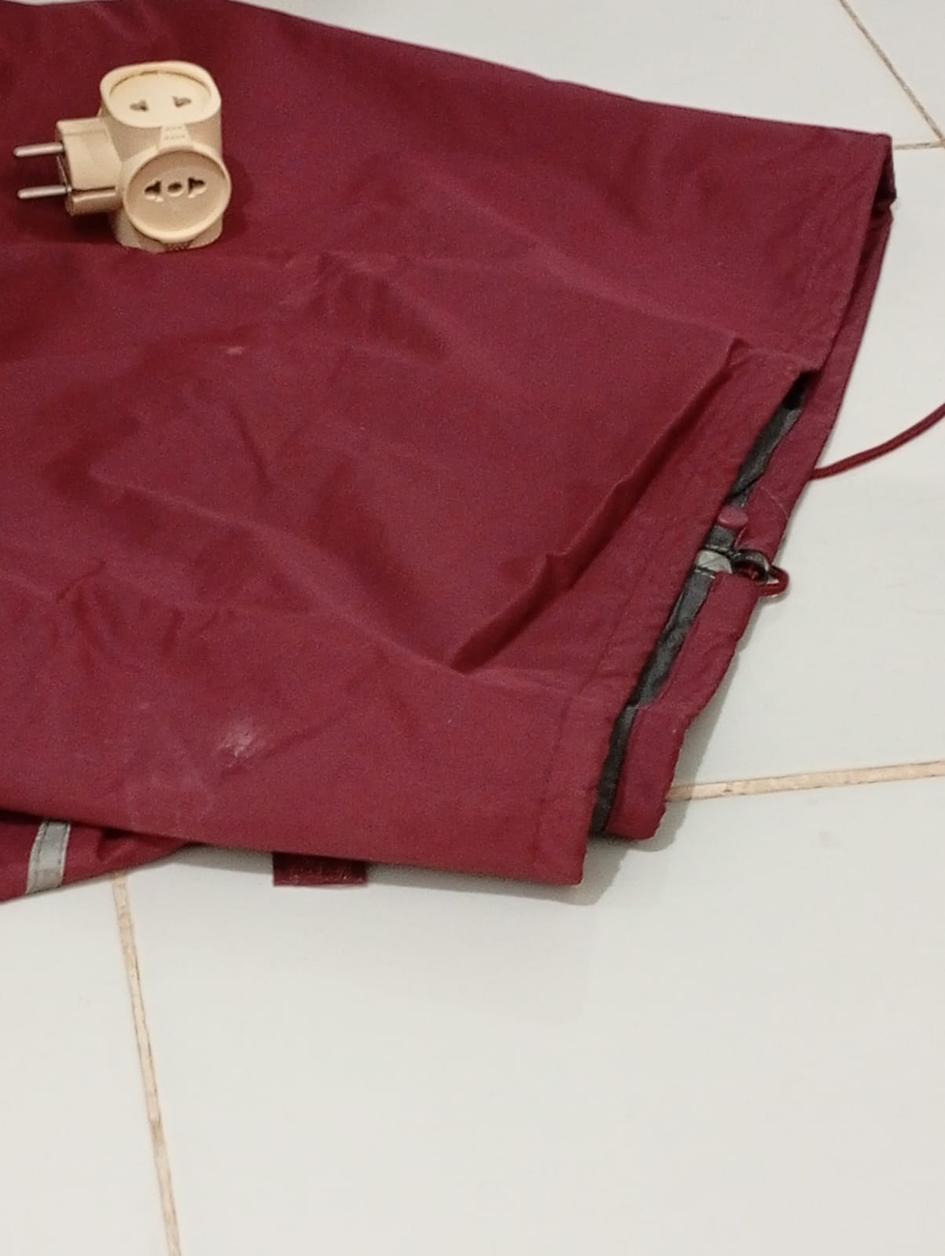Colokan: (10, 45, 268, 261)
